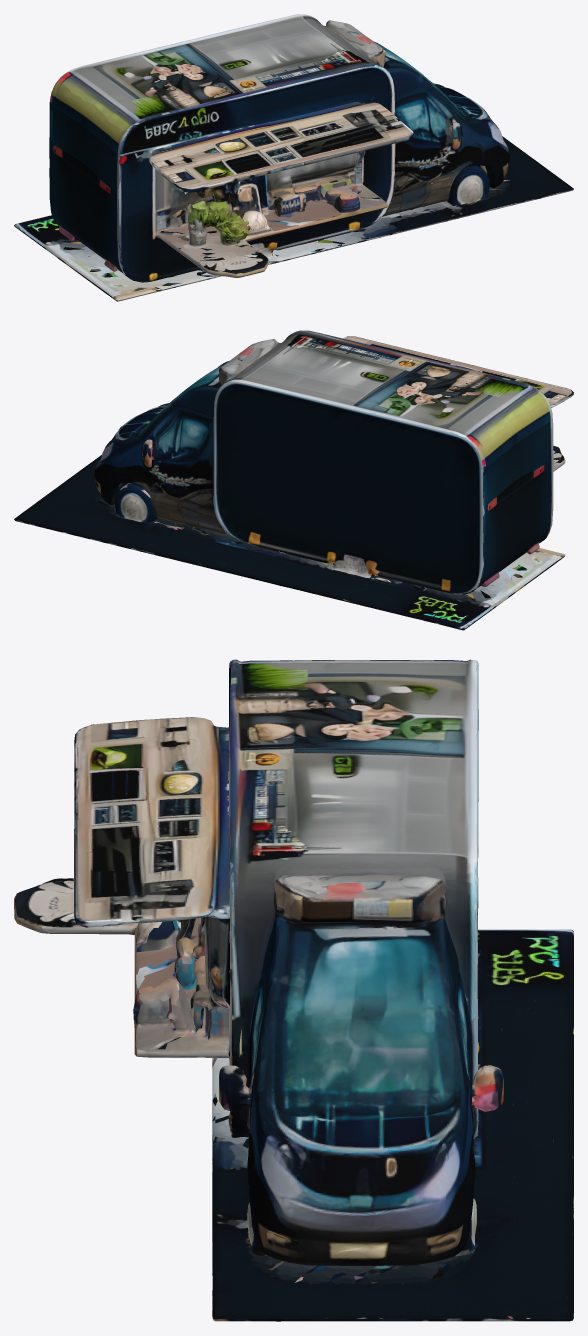
Rendered from foodtruck.glb.
3 views of the same model, one above another, from view 1: azimuth 30°, elevation 25°; view 2: azimuth 150°, elevation 25°; view 3: azimuth 270°, elevation 25° (orthographic). The views are drawn at different scales.
Parts seen in each view (by area): view 1: textured_mesh; view 2: textured_mesh; view 3: textured_mesh.
Part boxes in pixels (box(x1,y1,x2,y2)): textured_mesh: box(14, 14, 573, 301); textured_mesh: box(14, 330, 573, 630); textured_mesh: box(14, 659, 573, 1321).
Bounding box in the file's own units: 2 × 0.7613 × 1.21.
1 material, 1 textured.
